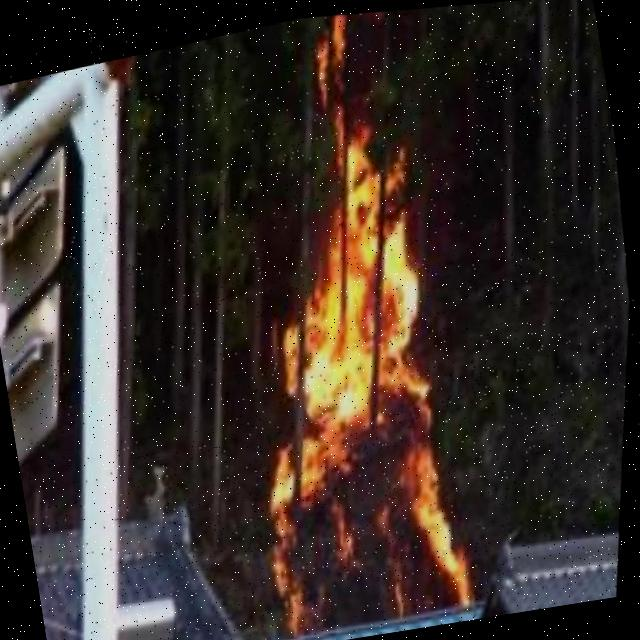fire: (194, 129, 496, 640)
